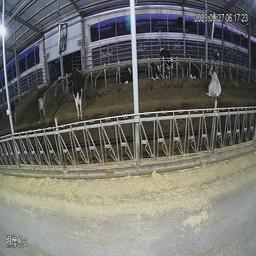cow: (65, 67, 86, 122), (144, 51, 163, 87), (160, 40, 175, 84), (207, 60, 221, 105), (115, 53, 132, 87), (186, 55, 203, 84), (212, 39, 221, 70)
